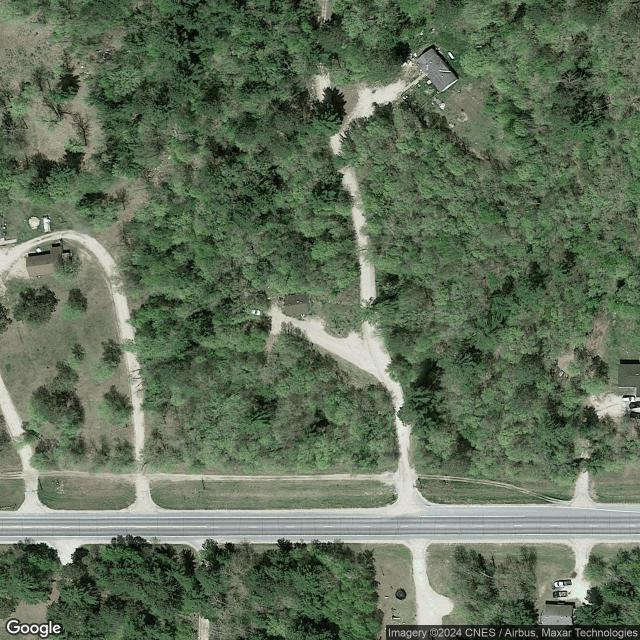Propane: (446, 49, 457, 61)
